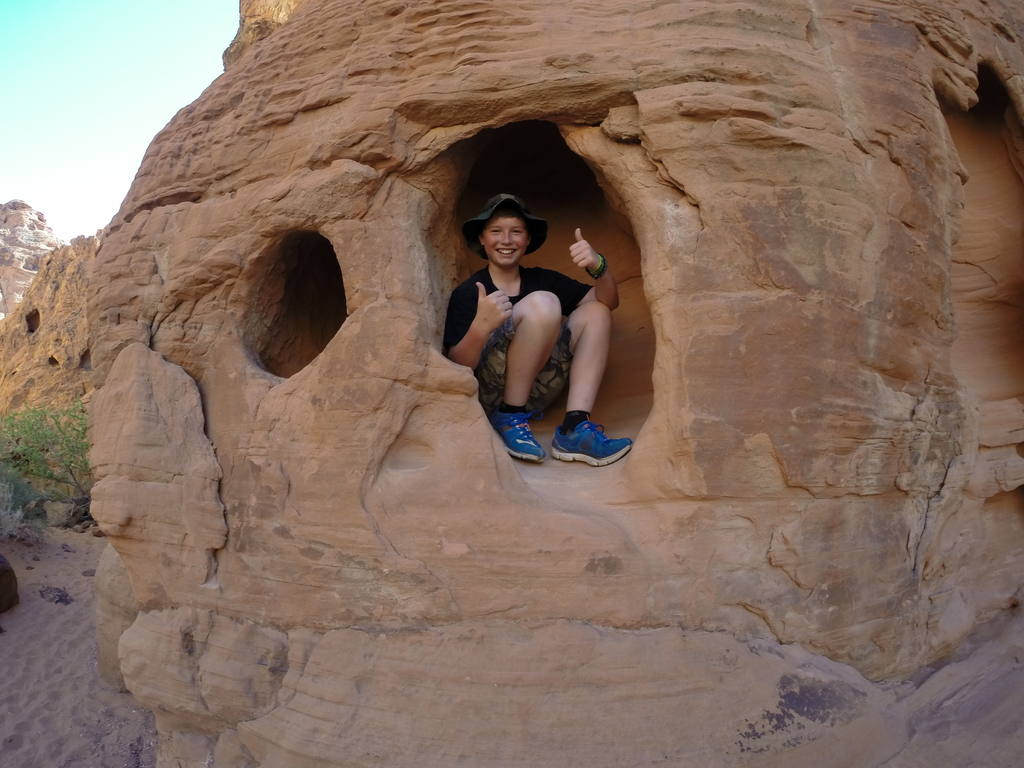Human-face: (486, 215, 527, 264)
